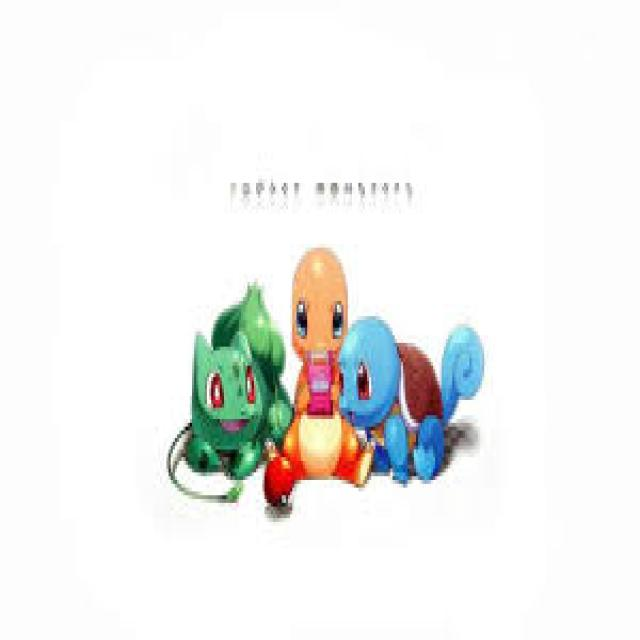Bulbasaur: (191, 315, 264, 474)
Charmander: (290, 248, 348, 478)
Squirtle: (340, 326, 444, 453)
